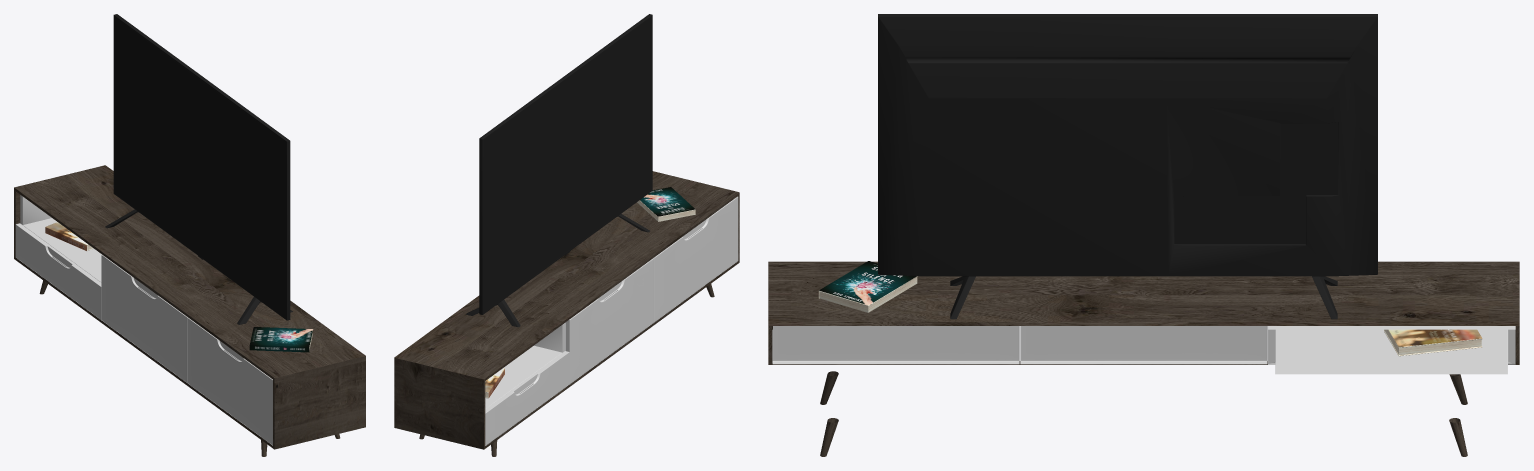
Rendered from Mueble_TV.fbx.
3 views of the same model, side by side, from view 1: azimuth 30°, elevation 25°; view 2: azimuth 150°, elevation 25°; view 3: azimuth 270°, elevation 25° (orthographic). The views are drawn at different scales.
Visible parts, largest first — view 1: Cabinet1; view 2: Cabinet1; view 3: Cabinet1.
Boxes of the visible parts, left/top/right/bottom form: Cabinet1: left=14, top=14, right=365, bottom=456; Cabinet1: left=394, top=14, right=739, bottom=456; Cabinet1: left=768, top=14, right=1519, bottom=456.
Size of the model in its own units: 45.08 by 137 by 222.
Materials: 6 (4 with a texture image).
